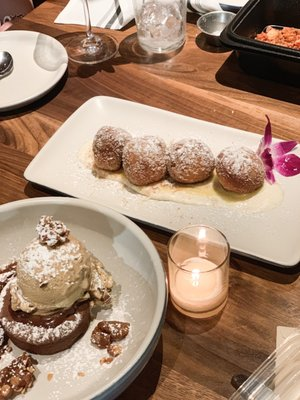pizza: (166, 223, 231, 329)
salad: (0, 50, 14, 80)
sushi: (220, 0, 300, 89)
